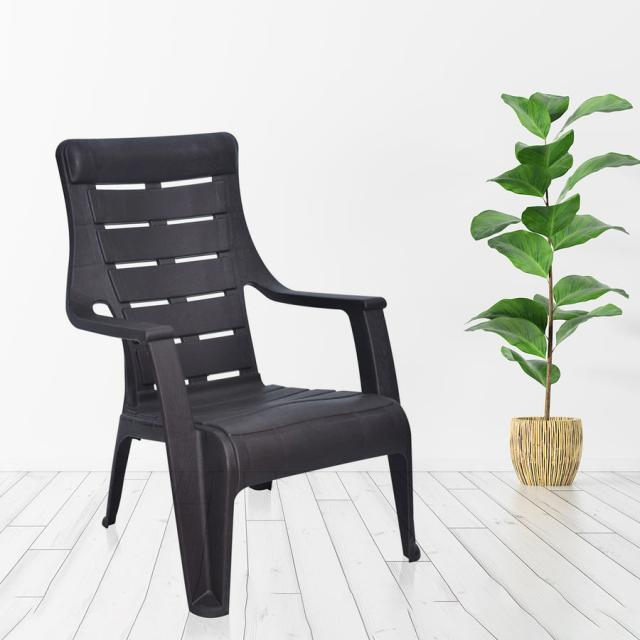obstacle: (33, 76, 474, 619)
